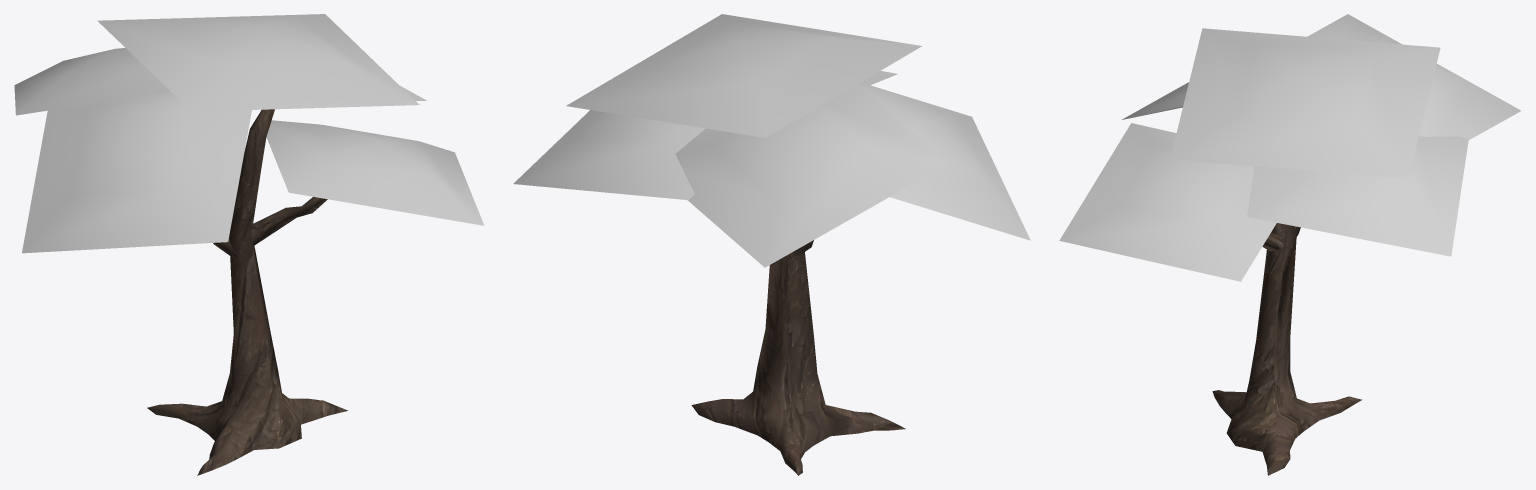
File: Tree_10_Red.FBX
The picture shows the model from 3 angles, left to right: view 1: azimuth 30°, elevation 25°; view 2: azimuth 150°, elevation 25°; view 3: azimuth 270°, elevation 25°; orthographic projection. The views are drawn at different scales.
Visible parts, largest first — view 1: Object009, Object008; view 2: Object009, Object008; view 3: Object009, Object008.
Boxes of the visible parts, <box> form: Object009: <box>14,14,484,253</box>; Object008: <box>147,109,347,475</box>; Object009: <box>513,14,1030,267</box>; Object008: <box>691,240,905,475</box>; Object009: <box>1059,14,1521,281</box>; Object008: <box>1212,223,1361,475</box>.
Bounding box in the file's own units: 176 × 153 × 173.
